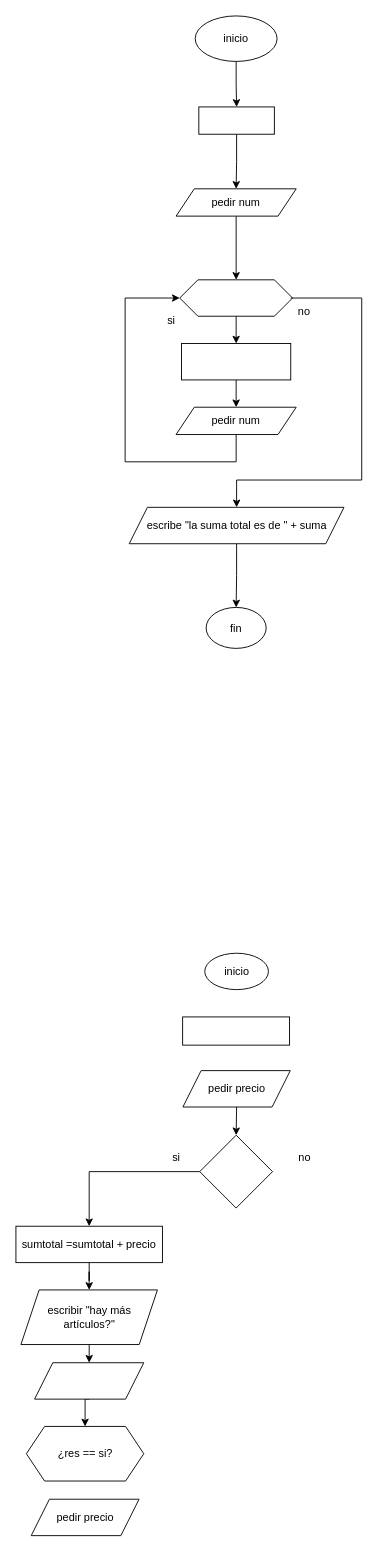
Image size: 385x1552. Some labels were removed from this diagram. Here are the shapes that lost their labels. From the top down, the centre of each, then its label:
(x=236, y=120): suma = 0
(x=236, y=297): num > 0
(x=236, y=361): suma = num + suma
(x=236, y=1030): sumtotal = 0
(x=236, y=1171): ¿precio >0?
(x=89, y=1380): leer res
